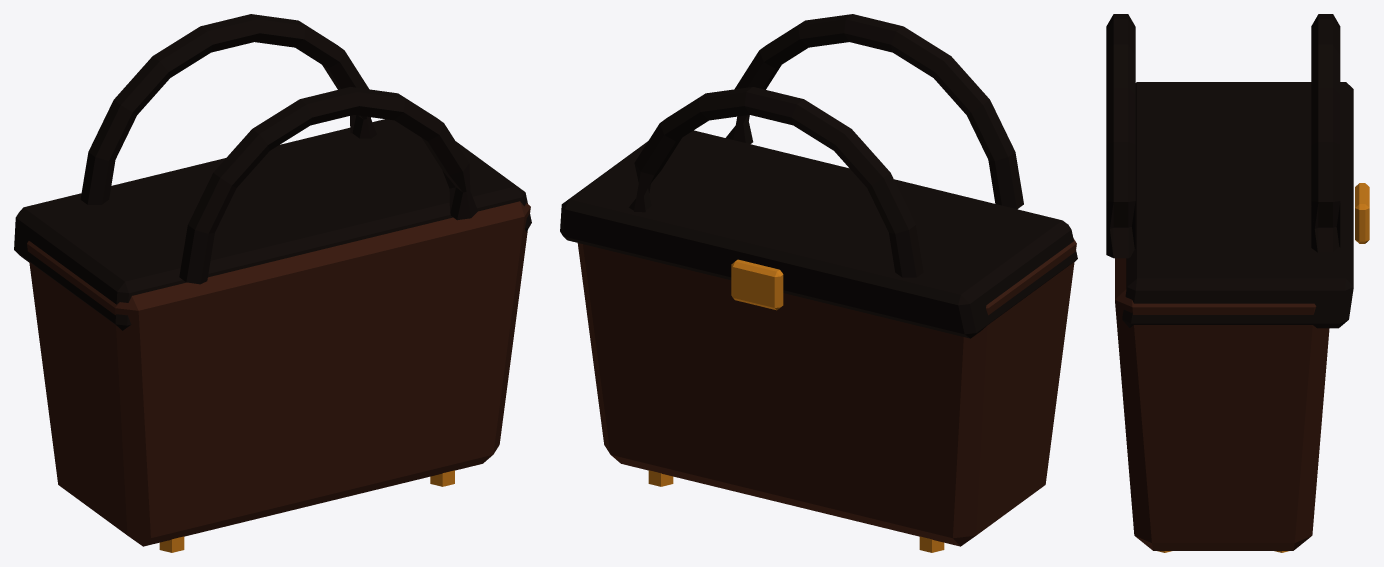
File: ACCESSORY_03_Handbag.obj
3 views of the same model, side by side, from view 1: azimuth 30°, elevation 25°; view 2: azimuth 150°, elevation 25°; view 3: azimuth 270°, elevation 25° (orthographic). The views are drawn at different scales.
Parts seen in each view (by area): view 1: ACCESSORY_03_Handbag_Body, ACCESSORY_03_Handbag_Flap, ACCESSORY_03_Handbag_Handles, ACCESSORY_03_Handbag_Base_Studs; view 2: ACCESSORY_03_Handbag_Body, ACCESSORY_03_Handbag_Flap, ACCESSORY_03_Handbag_Handles, ACCESSORY_03_Handbag_Clasp, ACCESSORY_03_Handbag_Base_Studs; view 3: ACCESSORY_03_Handbag_Flap, ACCESSORY_03_Handbag_Body, ACCESSORY_03_Handbag_Handles, ACCESSORY_03_Handbag_Clasp.
Boxes of the visible parts, x1,y1,x2,y2 form: ACCESSORY_03_Handbag_Body: [27, 201, 530, 546]; ACCESSORY_03_Handbag_Flap: [14, 119, 531, 330]; ACCESSORY_03_Handbag_Handles: [80, 14, 477, 284]; ACCESSORY_03_Handbag_Base_Studs: [159, 470, 454, 552]; ACCESSORY_03_Handbag_Body: [577, 238, 1076, 546]; ACCESSORY_03_Handbag_Flap: [560, 130, 1077, 338]; ACCESSORY_03_Handbag_Handles: [629, 14, 1023, 277]; ACCESSORY_03_Handbag_Clasp: [731, 259, 783, 310]; ACCESSORY_03_Handbag_Base_Studs: [648, 470, 944, 552]; ACCESSORY_03_Handbag_Flap: [1122, 82, 1353, 328]; ACCESSORY_03_Handbag_Body: [1115, 258, 1329, 550]; ACCESSORY_03_Handbag_Handles: [1106, 14, 1340, 258]; ACCESSORY_03_Handbag_Clasp: [1355, 183, 1369, 243].
Bounding box in the file's own units: 0.3383 × 0.3369 × 0.18.
